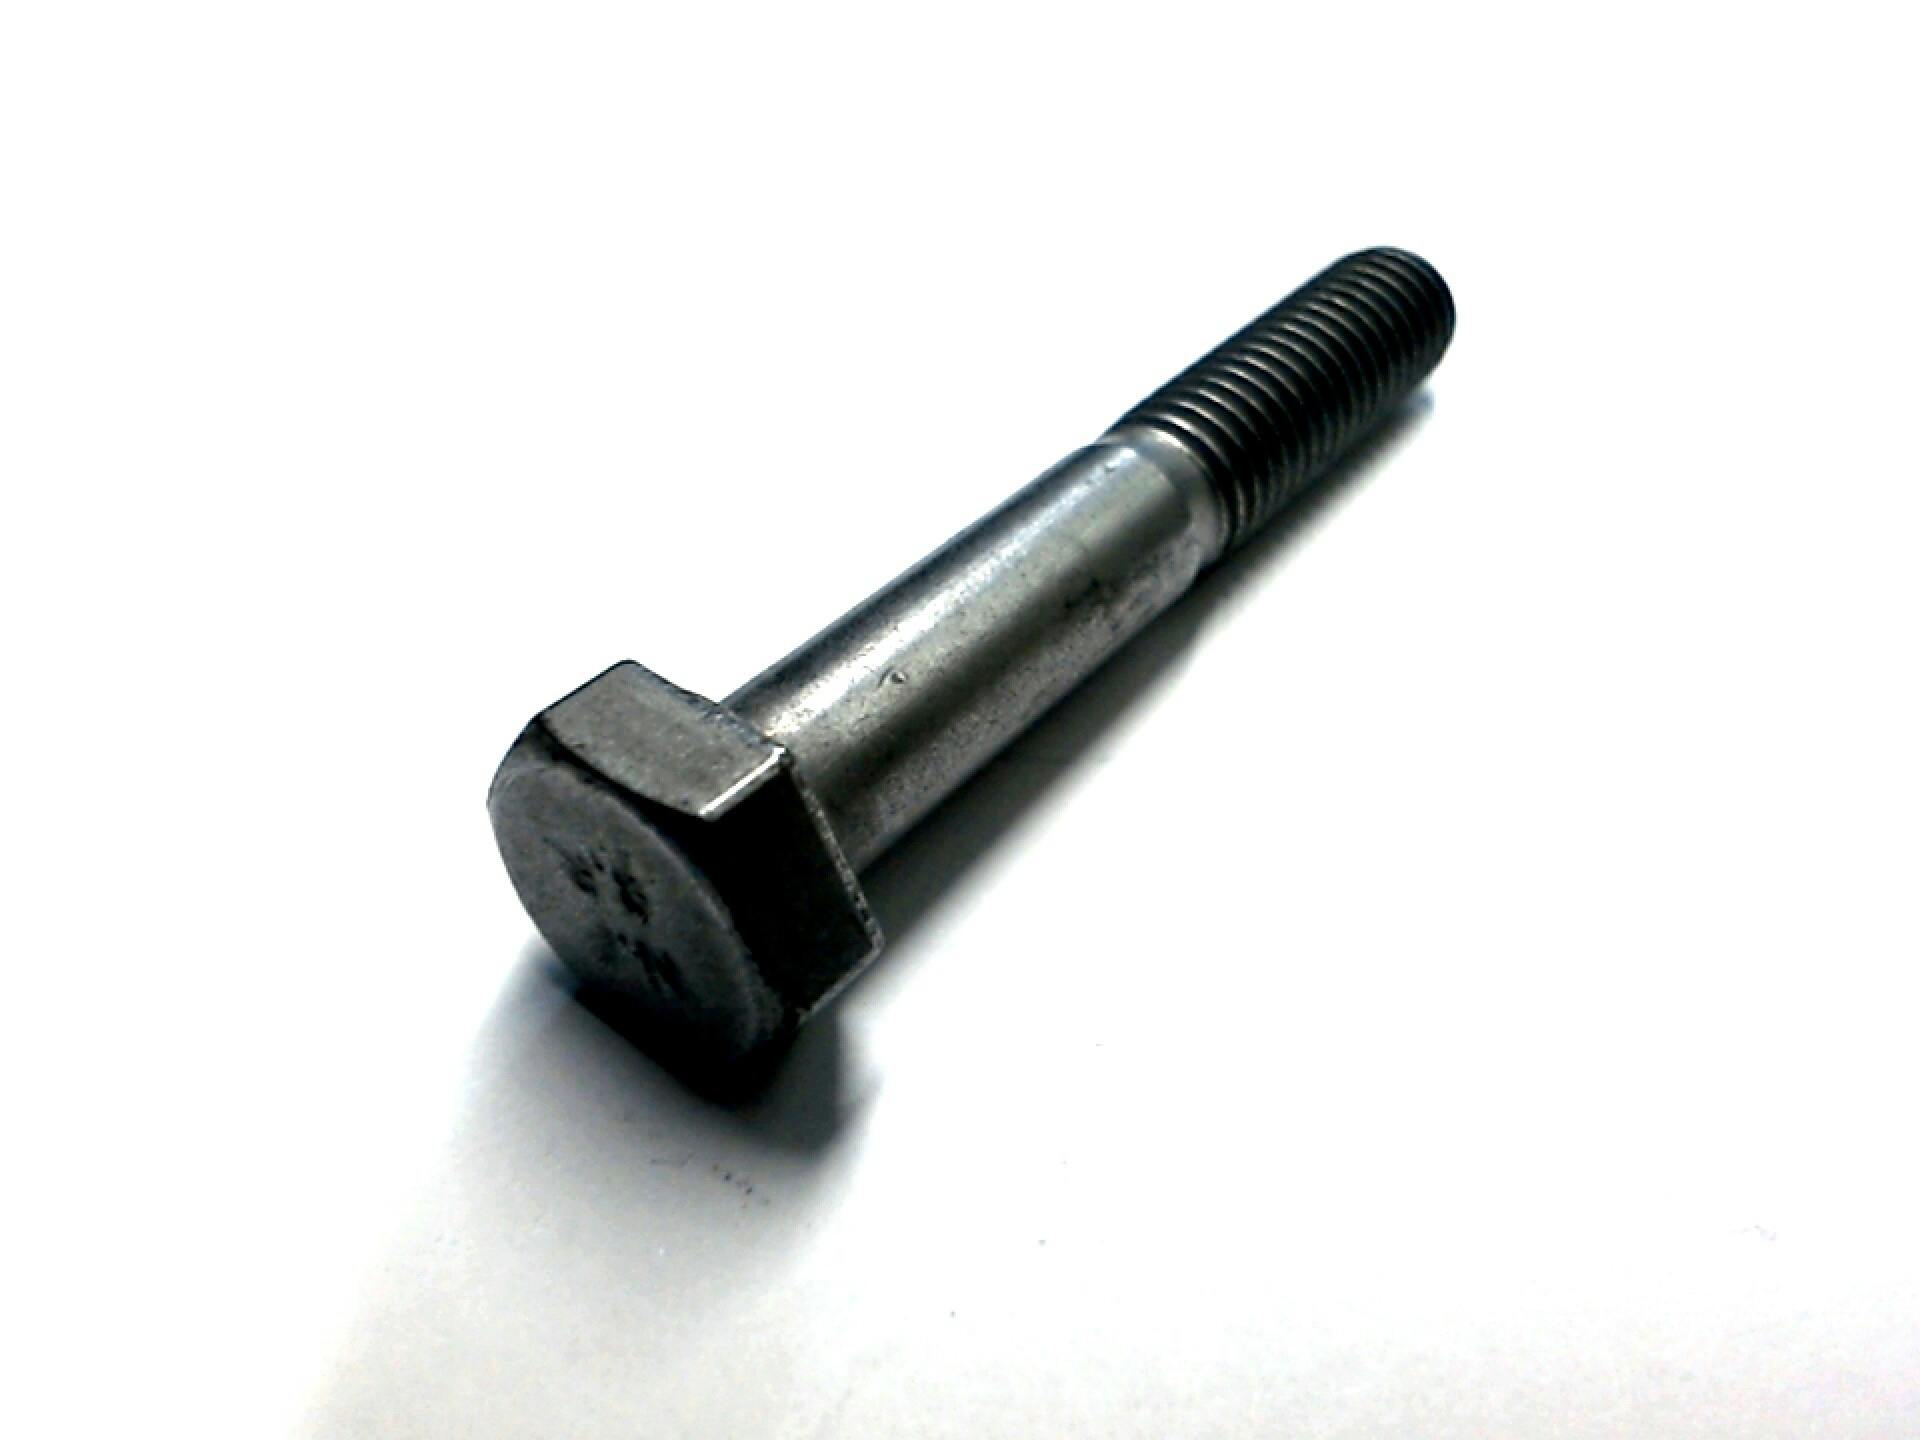screw: (482, 244, 1460, 1100)
